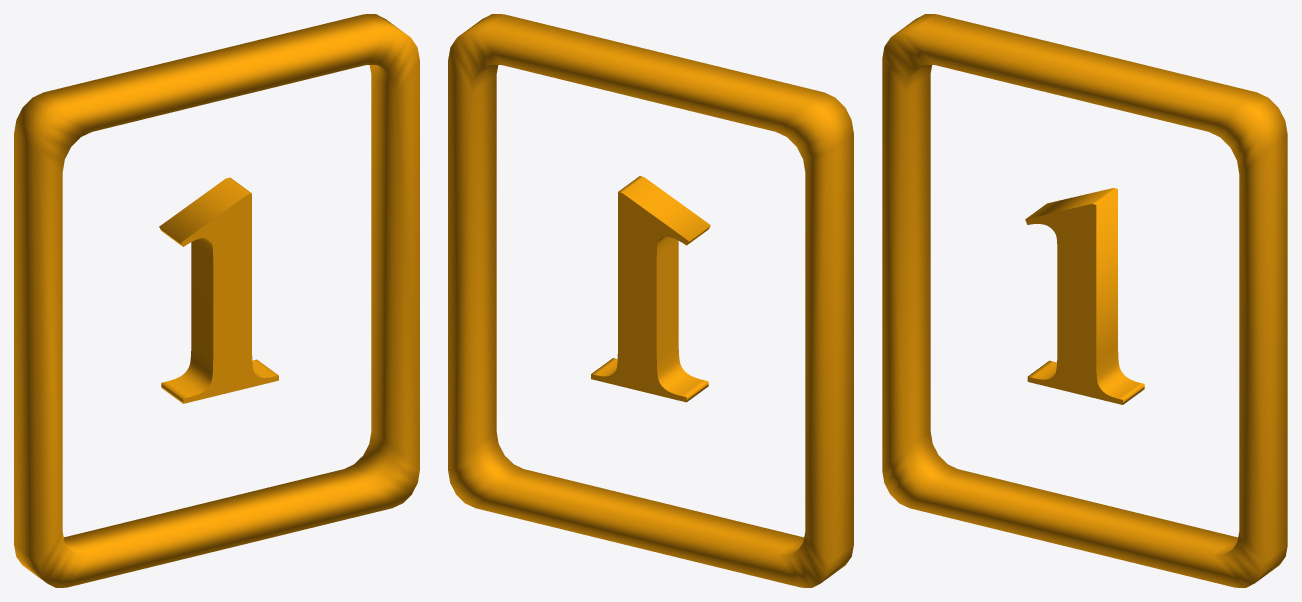
Rendered from Number_1.gltf.
3 renders of one model, left to right at view 1: azimuth 30°, elevation 25°; view 2: azimuth 150°, elevation 25°; view 3: azimuth 330°, elevation 25°, orthographic.
Visible parts, largest first — view 1: Numbers.002; view 2: Numbers.002; view 3: Numbers.002.
Part boxes in pixels (x1,y1,x2,y2): Numbers.002: [14, 14, 419, 587]; Numbers.002: [448, 14, 853, 587]; Numbers.002: [882, 14, 1287, 587].
Bounding box in the file's own units: 1 × 1.2 × 0.1143.
